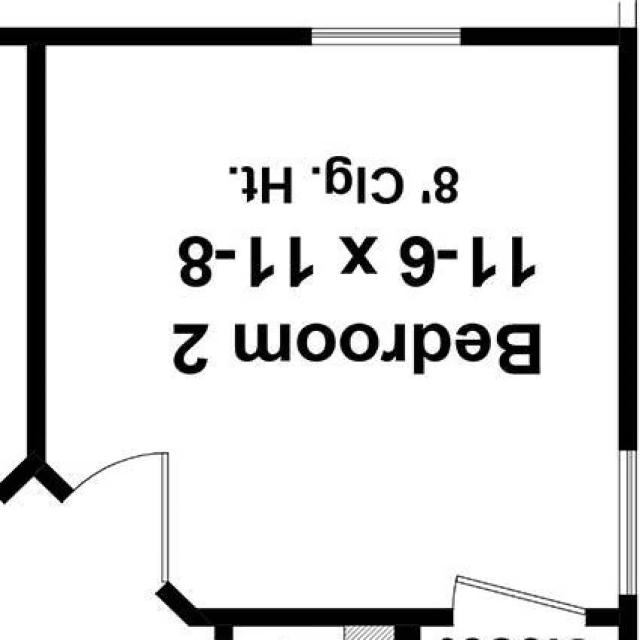Doors: (63, 449, 178, 591)
